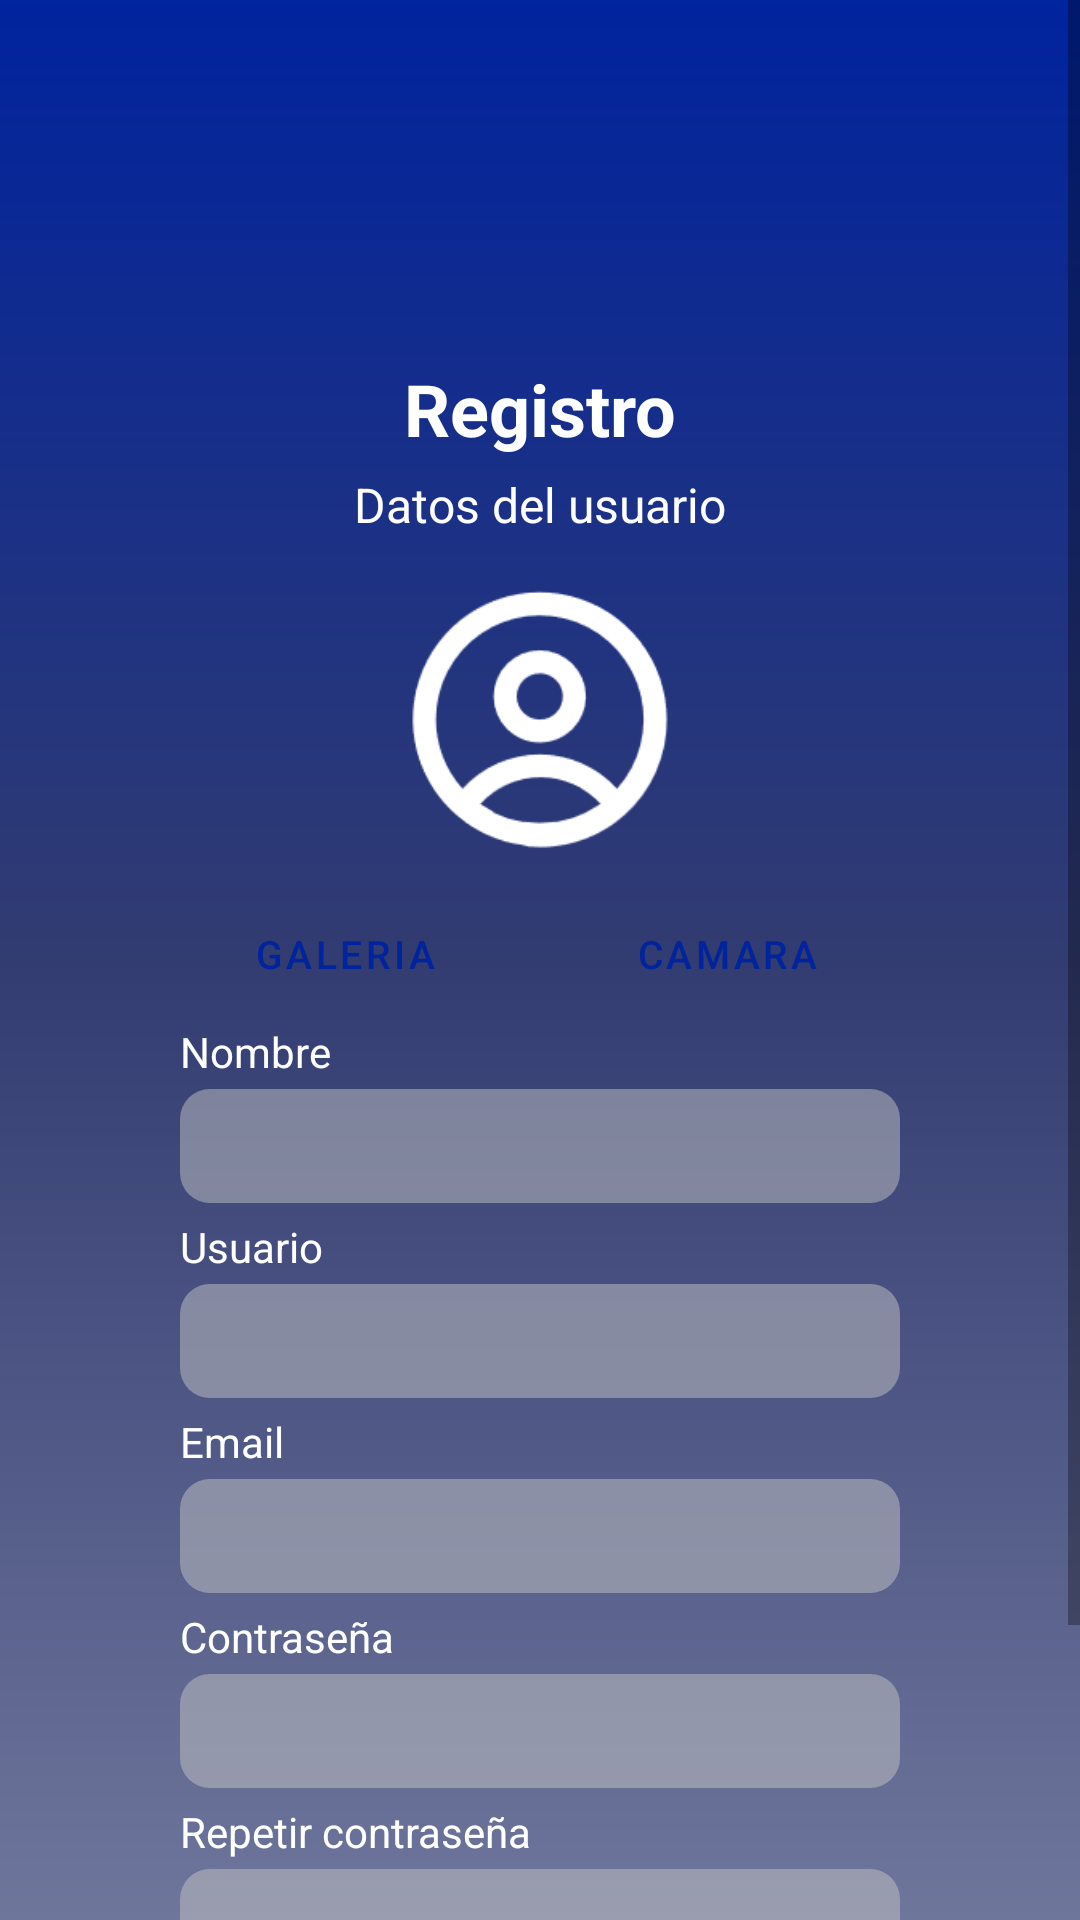

Icon click points for this 1080w x 1920h phone screenshot, format point (x, y):
profile: point (540, 719)
